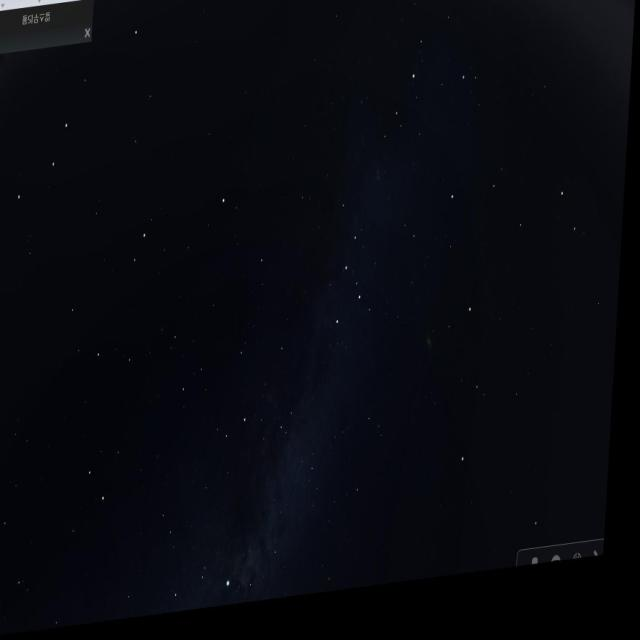cassiopeia: (331, 195, 377, 355)
